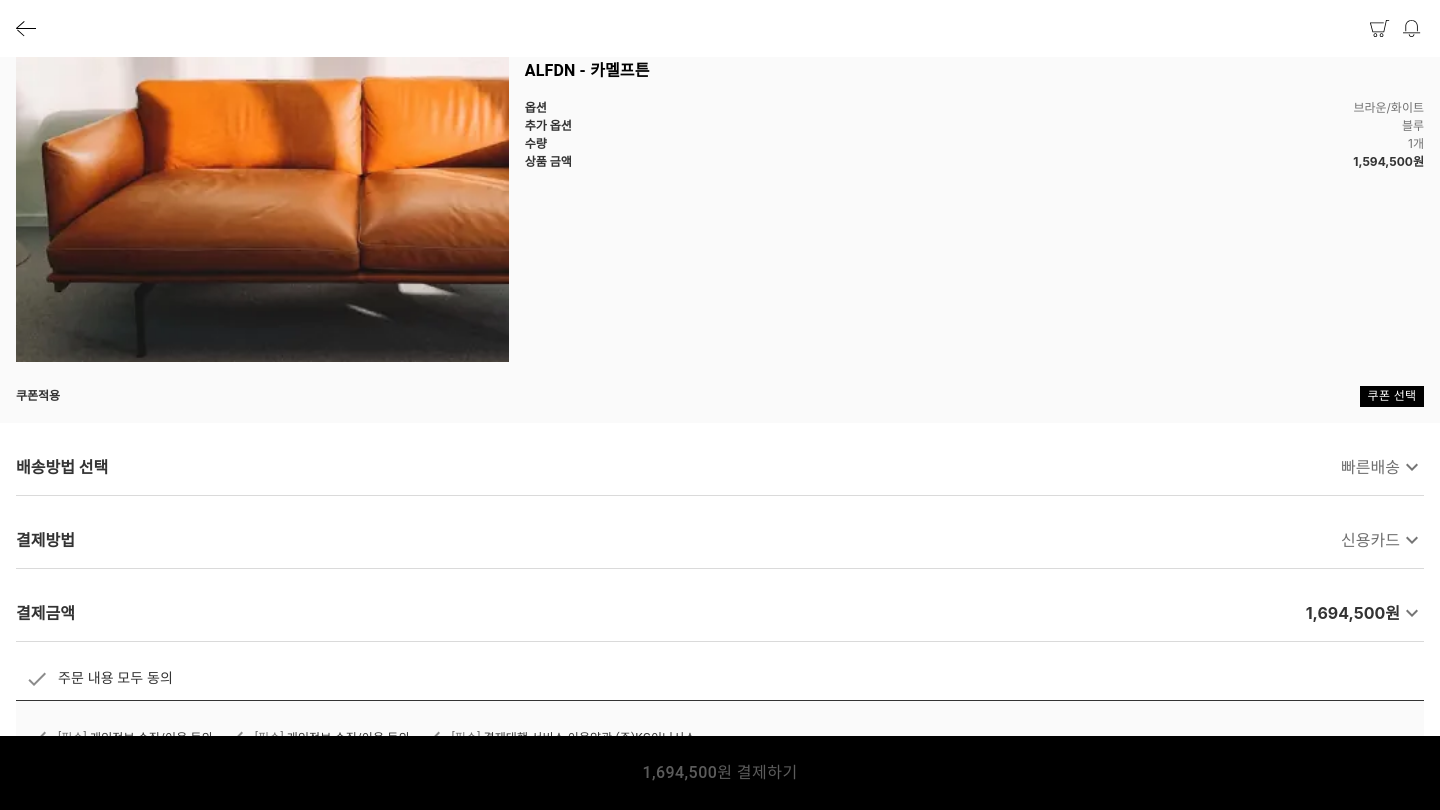
Test: ALFDN 상품만 있으면 브랜드 쿠폰은 모두 선택 불가
(page scrolled)
Step 1. Click the button "쿠폰 선택" → point(1392, 396), box [1360,386,1424,407]
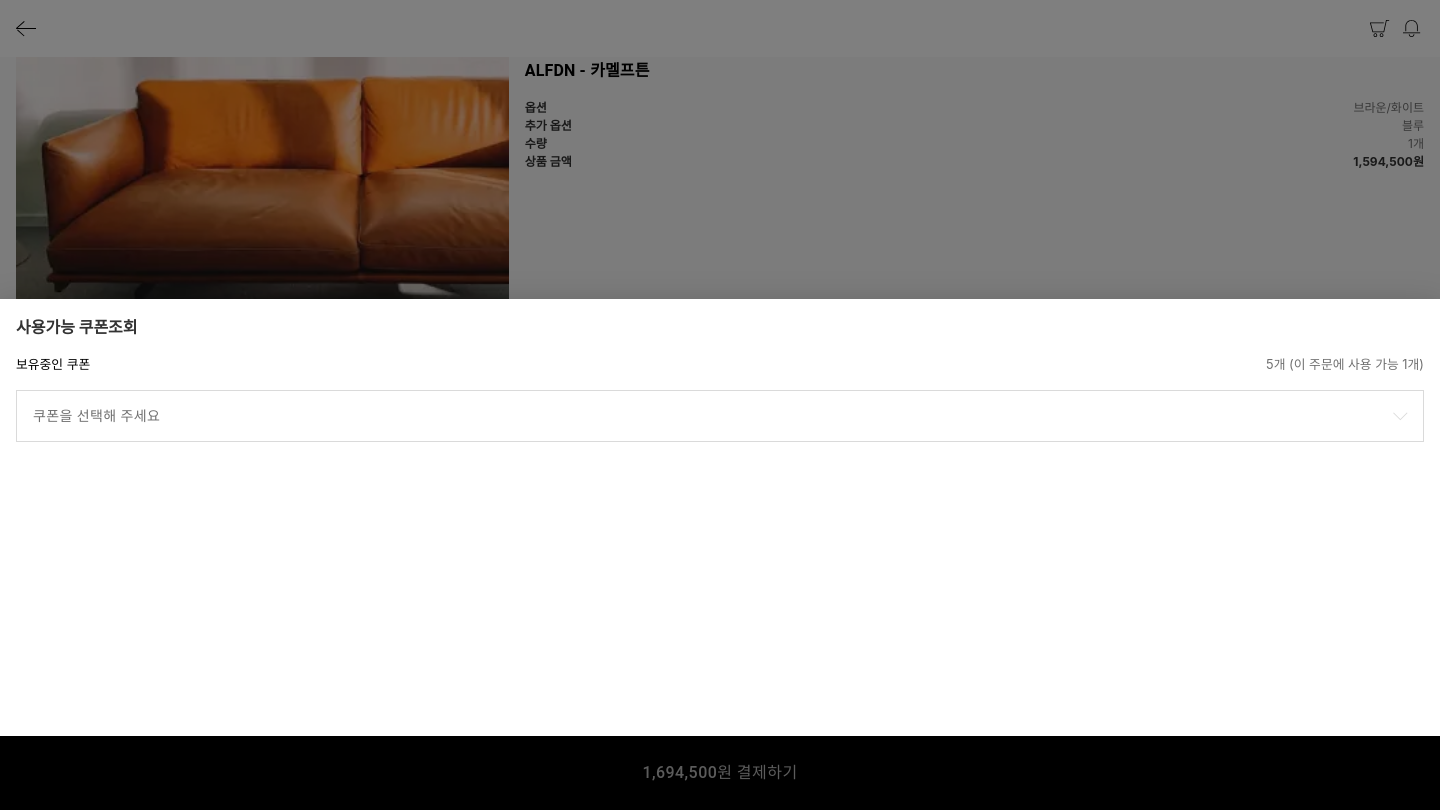
Step 2. Click the button "쿠폰을 선택해 주세요" → point(97, 416), box [16,390,1424,442]
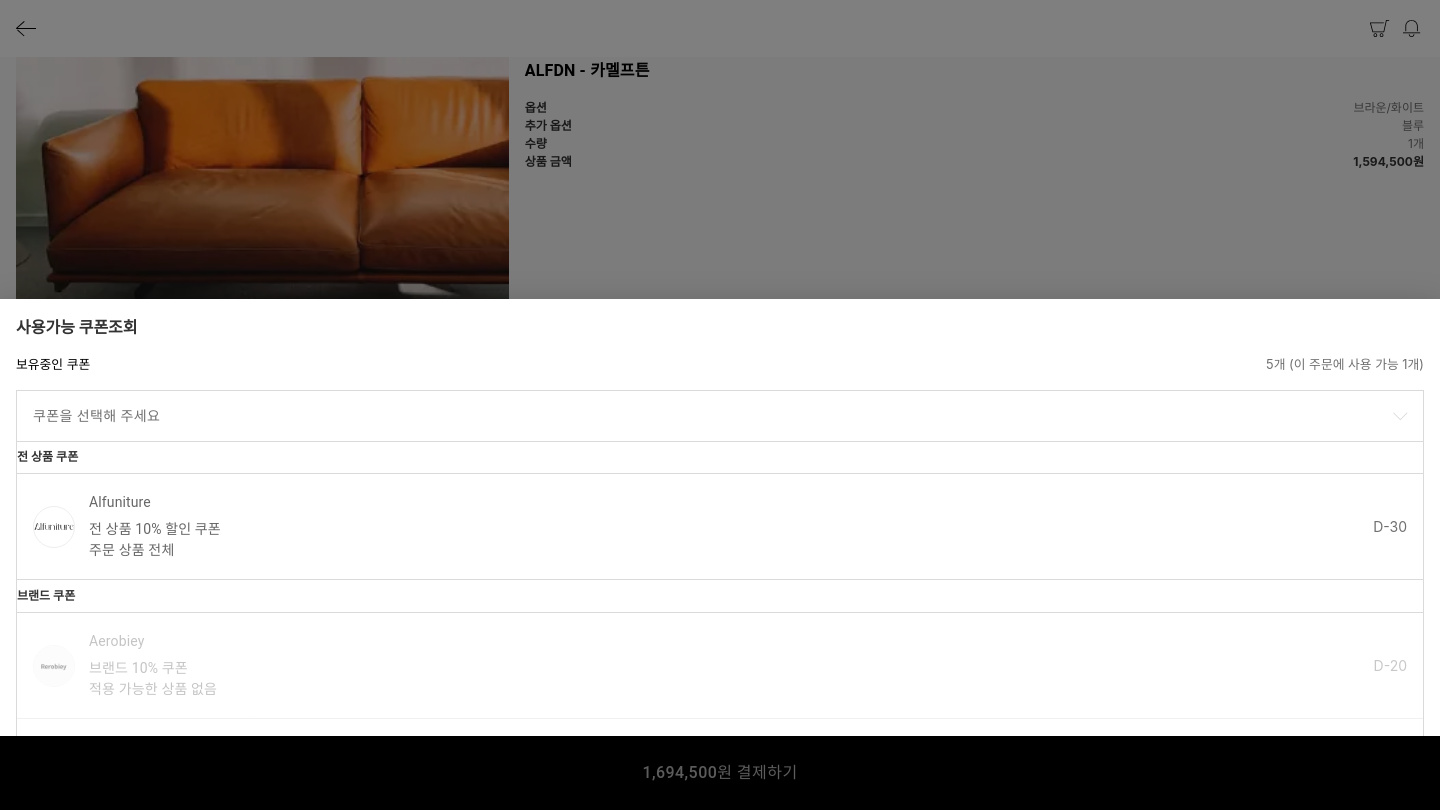
expect the text "5개 (이 주문에 사용 가능 1개)" is shown: met, box [1266,355,1424,374]
expect the text "적용 가능한 상품 없음" is shown: met, box [89,679,217,699]
